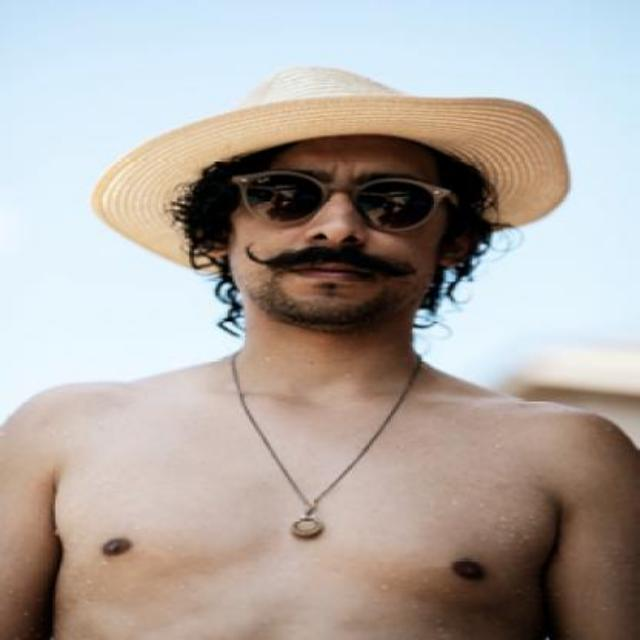glasses: (230, 172, 458, 232)
